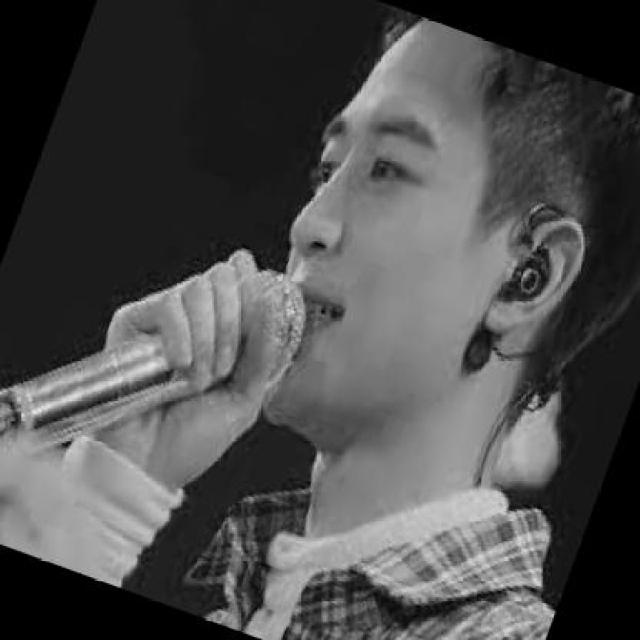earphone: (503, 200, 556, 316)
